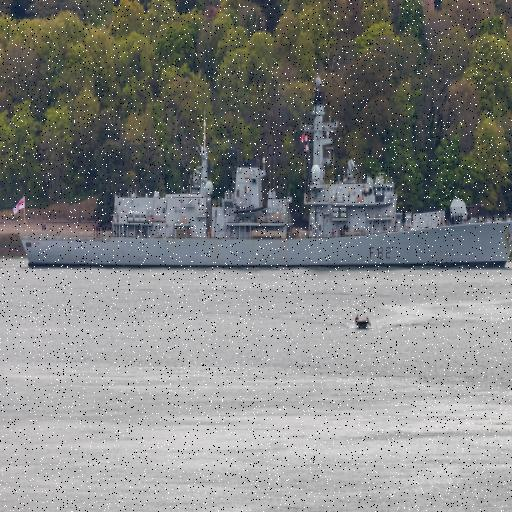Fragata: (14, 72, 512, 275)
